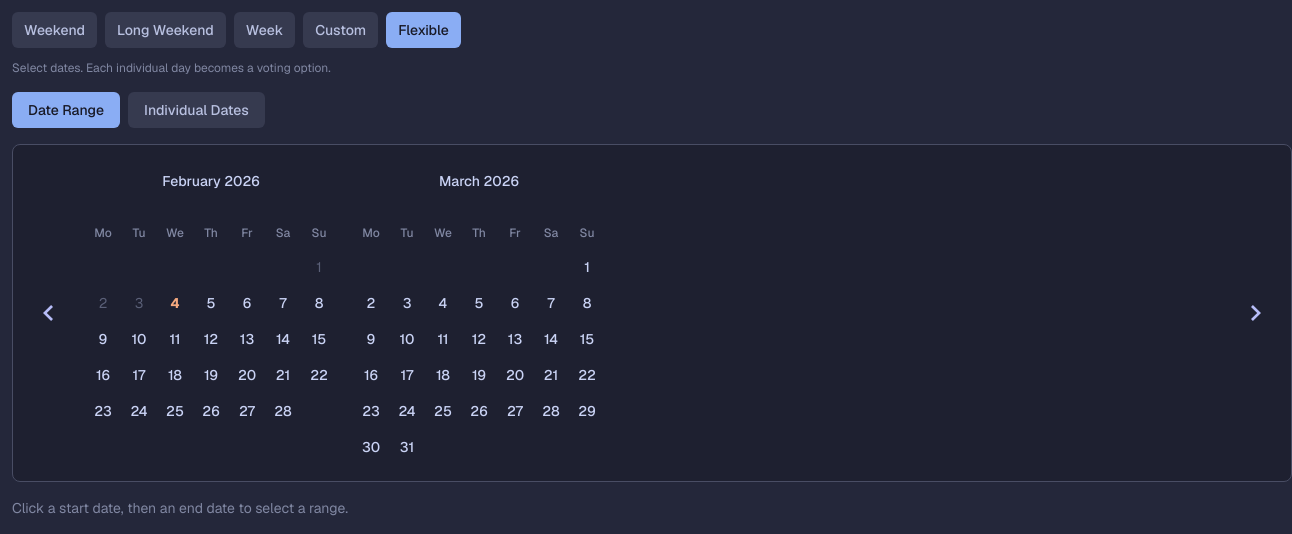
Test: CalendarPicker › empty state hints › shows single mode hint when in individual dates mode
Click the button "Individual Dates" at x=196, y=110, box [128,92,265,128]
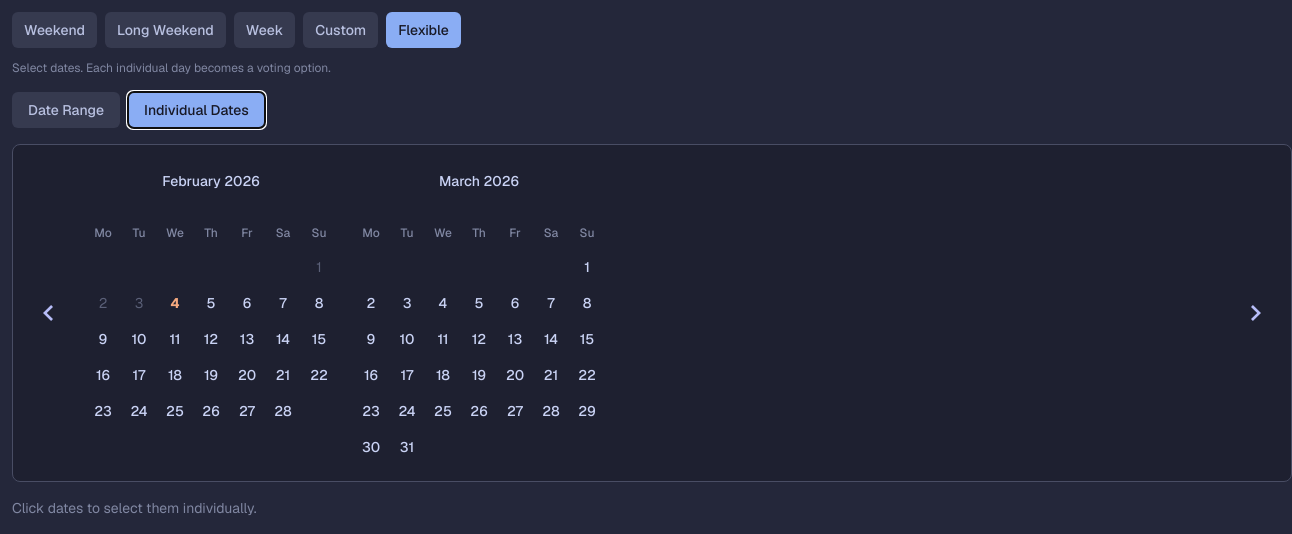
Expected: the text "Click dates to select them individually." is shown, [12,499,256,517]
